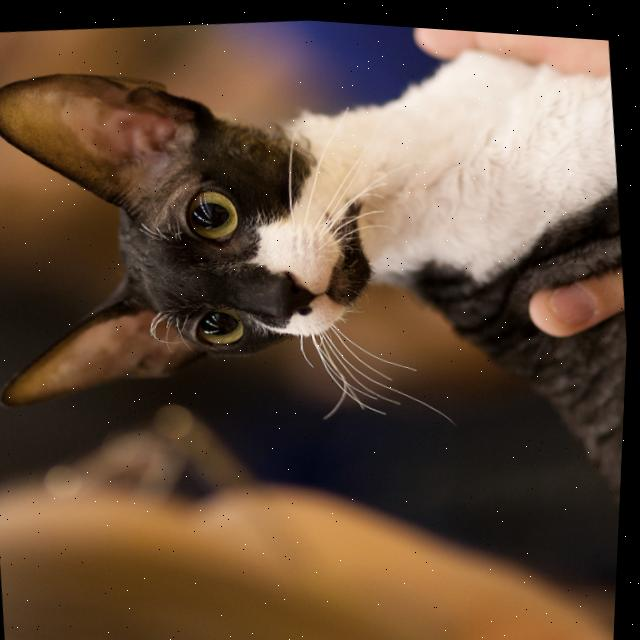Cornish Rex: (0, 0, 640, 631)
